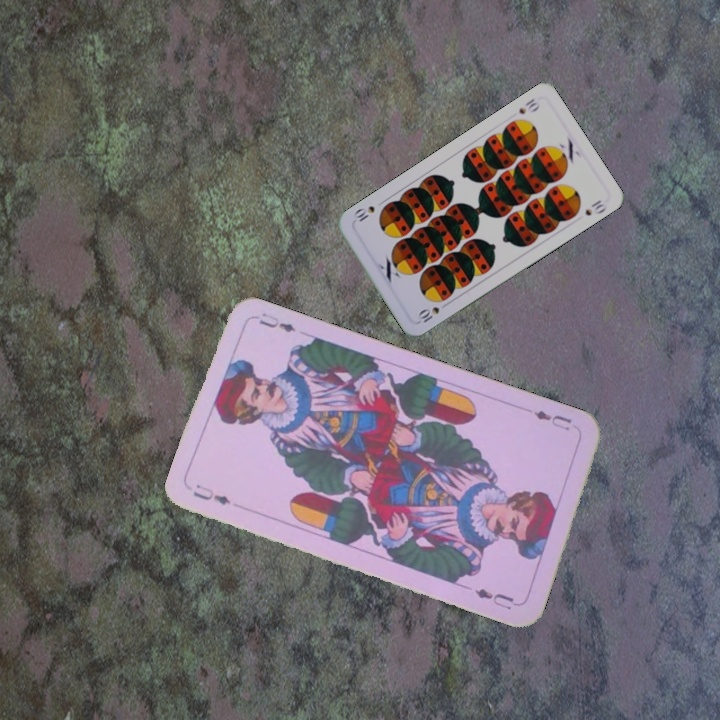EU: (529, 406, 575, 434), (189, 481, 233, 508)
S10: (413, 298, 451, 326), (515, 94, 542, 117)
